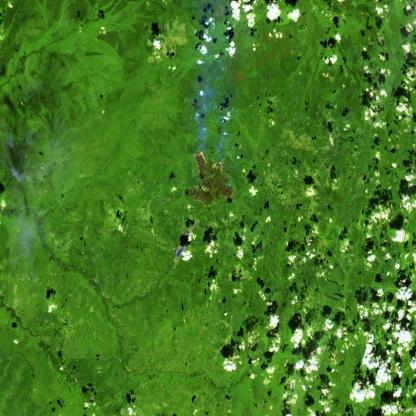fire: (190, 148, 236, 206)
